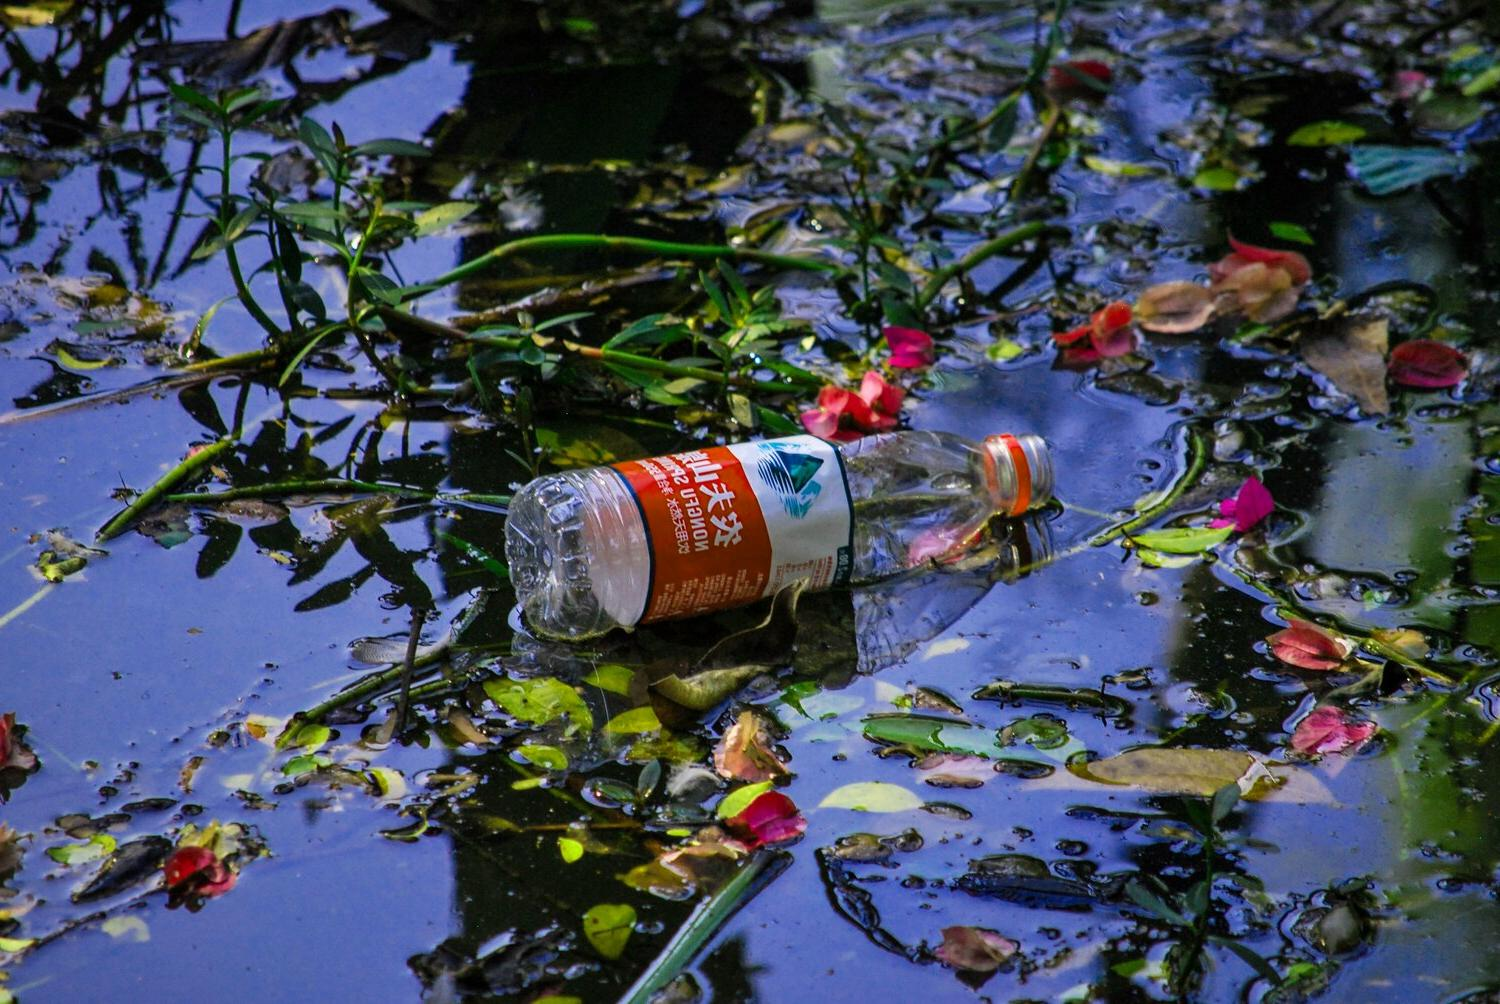Plastic: (485, 420, 1064, 647)
